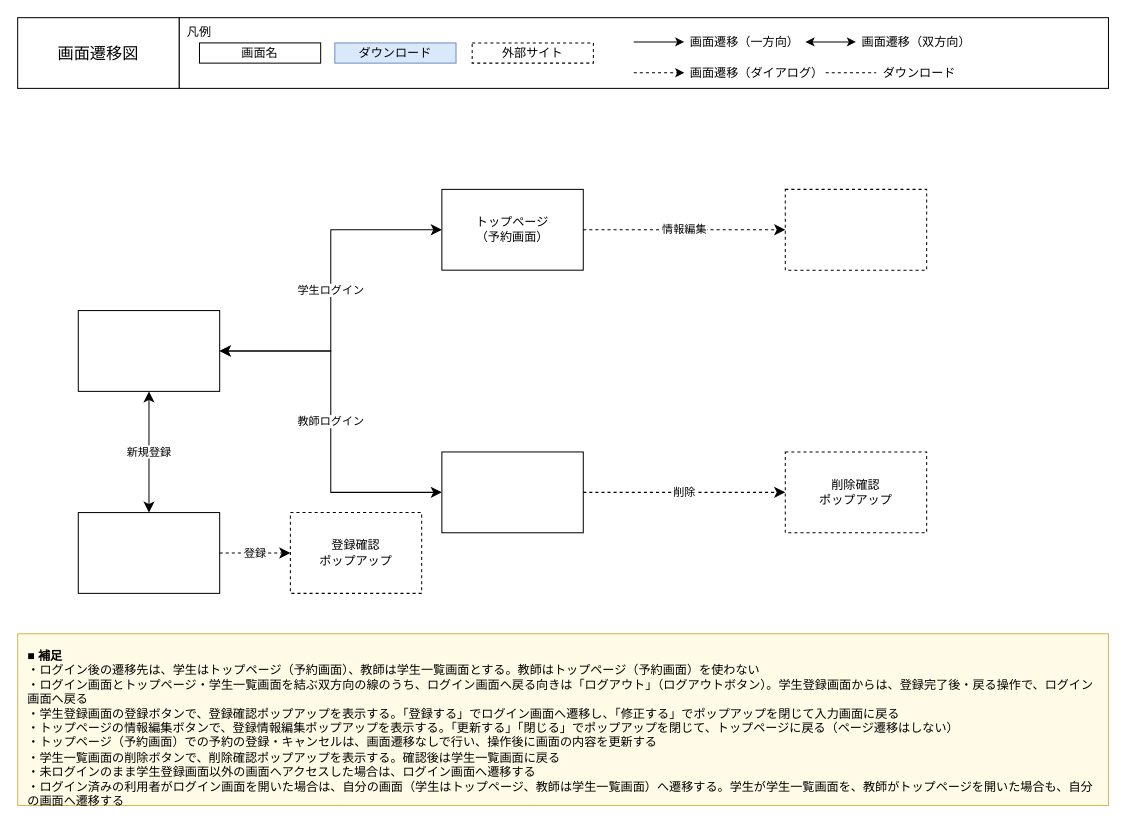
Image size: 1126x826. Some labels were removed from this diagram. Each missing label, with the box of its shape:
ログイン画面: (77, 310, 220, 391)
学生一覧画面 （教師専用画面）: (441, 451, 583, 533)
学生登録画面: (77, 512, 220, 593)
登録情報編集 ポップアップ: (784, 188, 927, 270)
